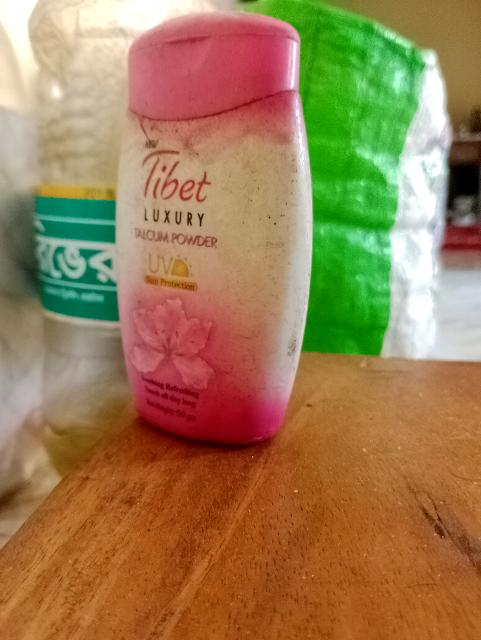bottle: (130, 20, 290, 438), (27, 8, 135, 417)
